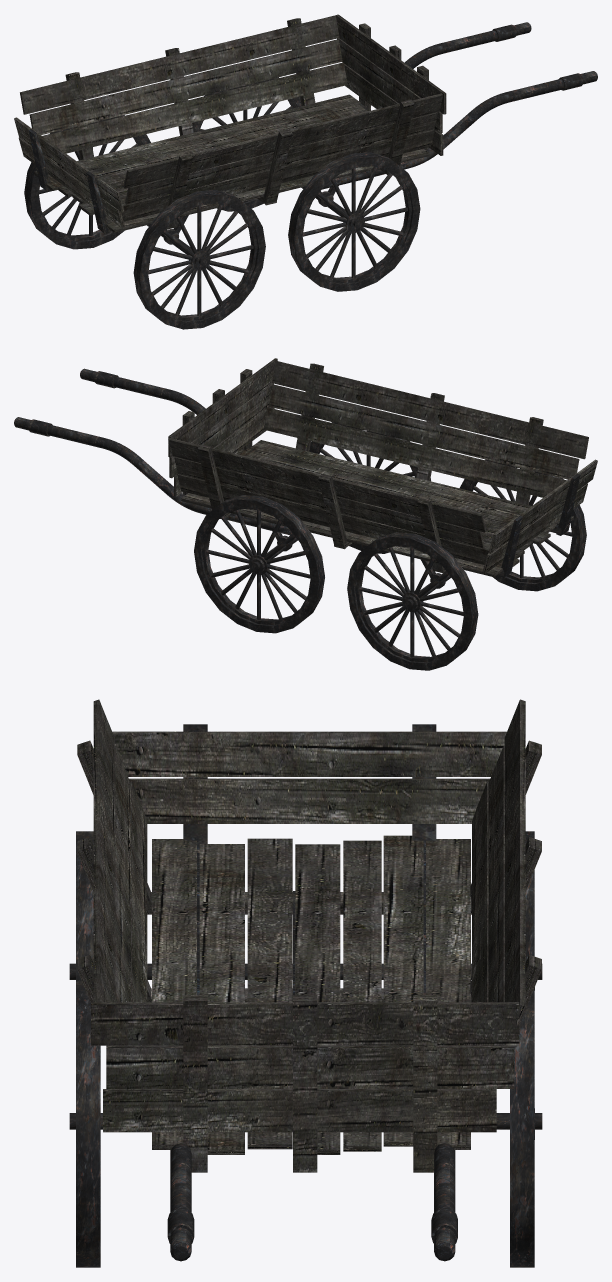
File: Wagon.fbx
The picture shows the model from 3 angles, top to bottom: view 1: azimuth 30°, elevation 25°; view 2: azimuth 150°, elevation 25°; view 3: azimuth 270°, elevation 25°; orthographic projection. The views are drawn at different scales.
Visible parts, largest first — view 1: Wagon; view 2: Wagon; view 3: Wagon.
Boxes of the visible parts, x1,y1,x2,y2 form: Wagon: (14,14,597,329); Wagon: (14,358,597,670); Wagon: (69,699,542,1267).
Size of the model in its own units: 430 by 144 by 176.
